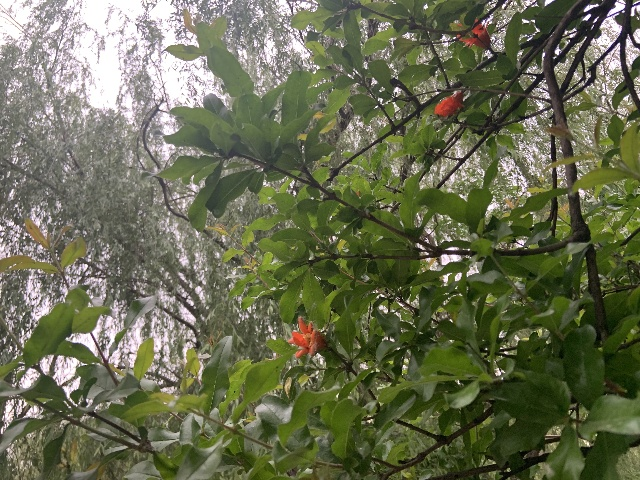flower: (287, 316, 326, 358), (456, 18, 490, 49), (433, 91, 464, 117)
